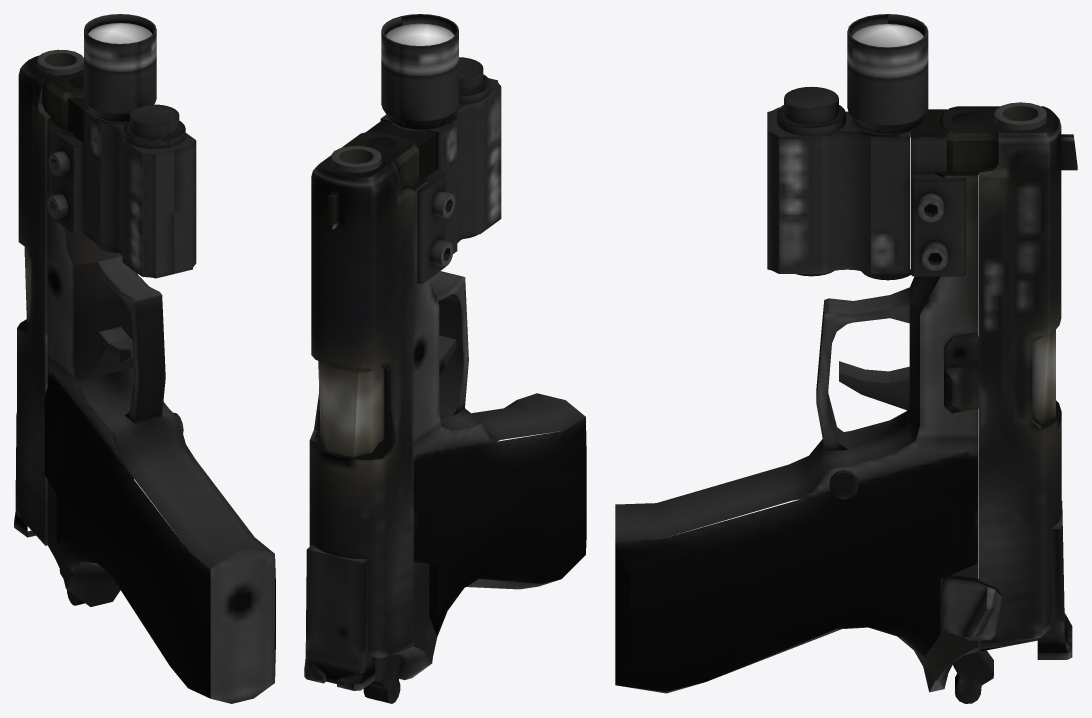
File: l4d2-w-pistol_a.glb
3 renders of one model, left to right at view 1: azimuth 30°, elevation 25°; view 2: azimuth 150°, elevation 25°; view 3: azimuth 270°, elevation 25°, orthographic. The views are drawn at different scales.
Size of the model in its own units: 1.53 by 9.14 by 5.74.
1 material, 1 textured.
